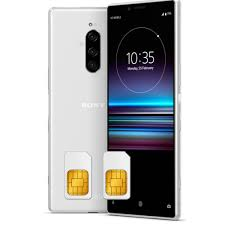sony: (106, 1, 183, 221)
